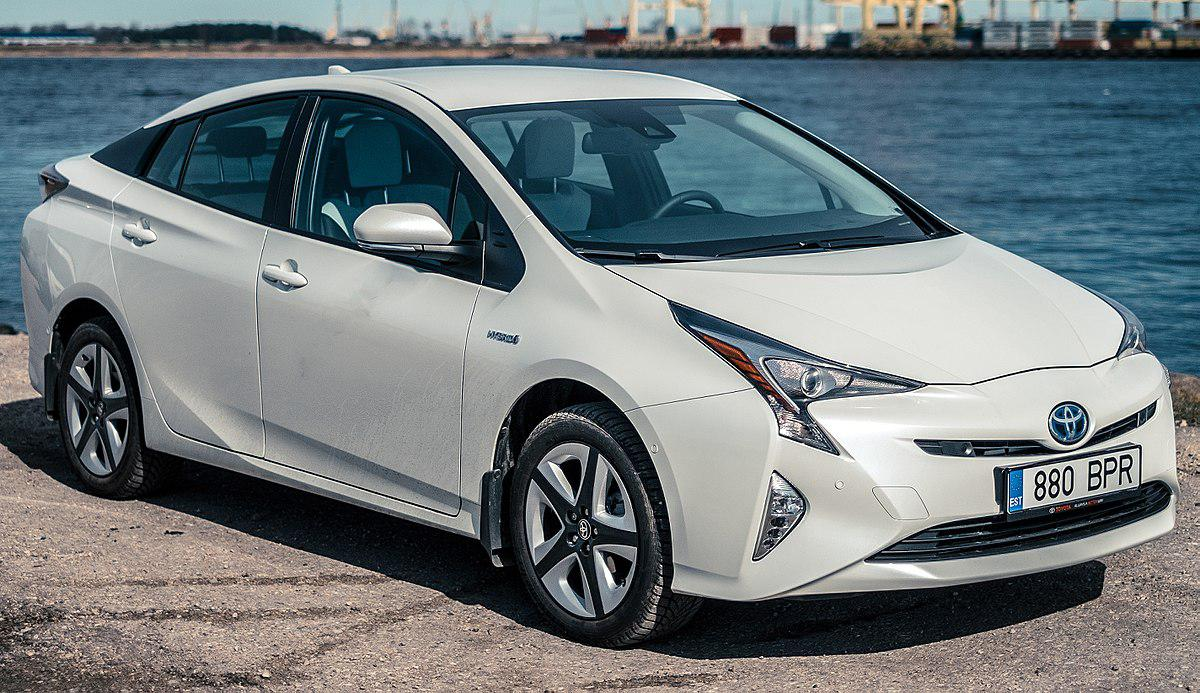car: (21, 65, 1195, 631)
